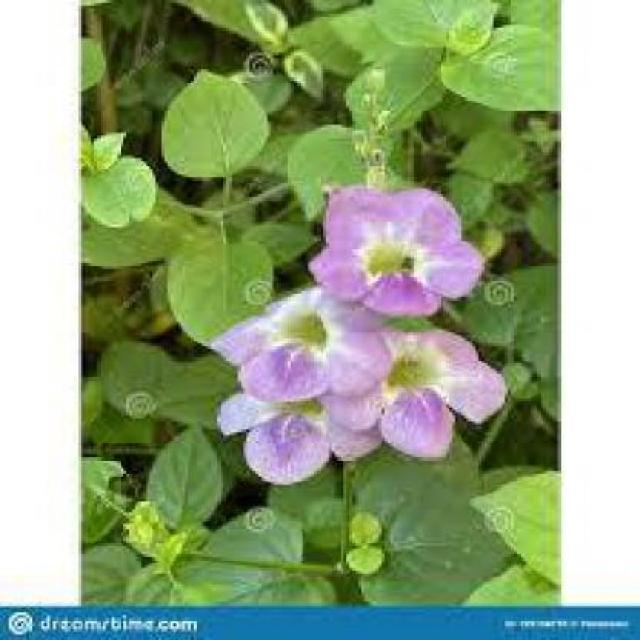flower: (320, 322, 517, 463), (207, 303, 359, 483), (298, 185, 492, 324)
